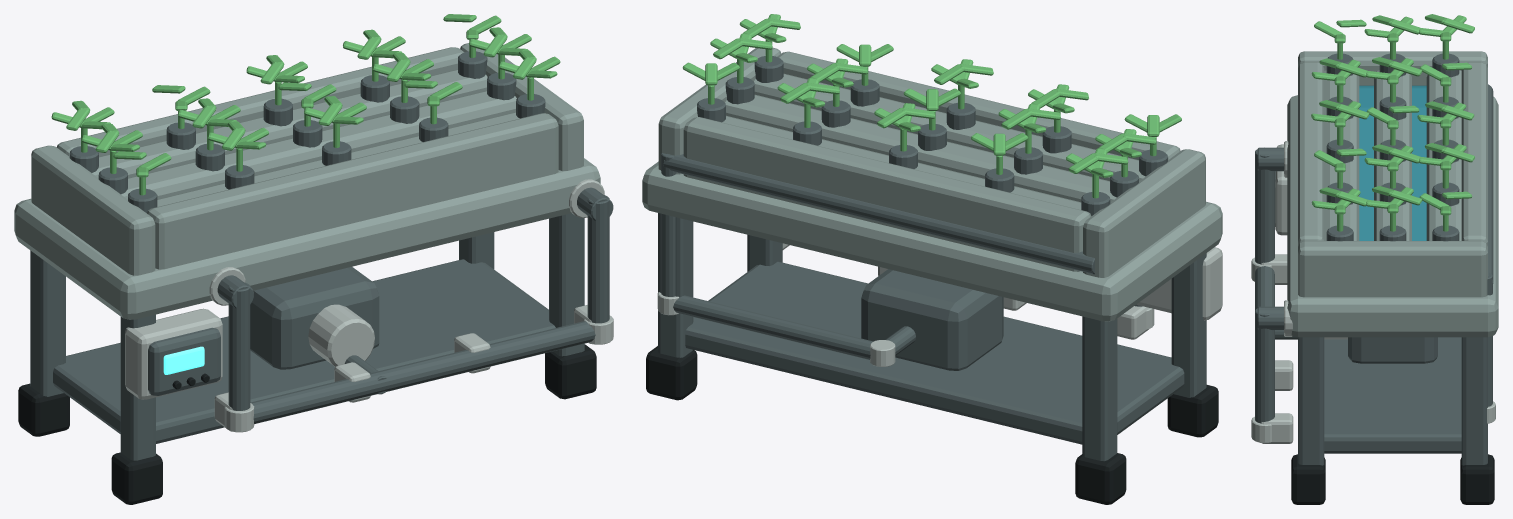
The model's file is 05_medium_culture_table.glb.
3 renders of one model, left to right at view 1: azimuth 30°, elevation 25°; view 2: azimuth 150°, elevation 25°; view 3: azimuth 270°, elevation 25°, orthographic. The views are drawn at different scales.
Parts seen in each view (by area): view 1: 05_medium_culture_table_Basin_Wall_Front, 05_medium_culture_table_Top_Frame, 05_medium_culture_table_Lower_Frame, 05_medium_culture_table_Basin_Wall_Left, 05_medium_culture_table_NFT_Channel_2, 05_medium_culture_table_Central_Motor_Housing, 05_medium_culture_table_Front_Circulation_Loop_Segment_2, 05_medium_culture_table_NFT_Channel_3, 05_medium_culture_table_Basin_Wall_Rear, 05_medium_culture_table_Leg_-1_1, 05_medium_culture_table_Leg_1_-1, 05_medium_culture_table_Control_Mounting_Plate (+21 smaller); view 2: 05_medium_culture_table_Lower_Frame, 05_medium_culture_table_Top_Frame, 05_medium_culture_table_Basin_Wall_Rear, 05_medium_culture_table_Central_Motor_Housing, 05_medium_culture_table_Basin_Wall_Left, 05_medium_culture_table_NFT_Channel_2, 05_medium_culture_table_Rear_Manifold, 05_medium_culture_table_Leg_-1_1, 05_medium_culture_table_NFT_Channel_1, 05_medium_culture_table_Basin_Wall_Front, 05_medium_culture_table_Leg_-1_-1, 05_medium_culture_table_Rear_Return_To_Motor_Segment_2 (+19 smaller); view 3: 05_medium_culture_table_Lower_Frame, 05_medium_culture_table_Top_Frame, 05_medium_culture_table_Basin_Wall_Right, 05_medium_culture_table_Basin_Wall_Rear, 05_medium_culture_table_Basin_Wall_Front, 05_medium_culture_table_Water_Surface, 05_medium_culture_table_Leg_1_-1, 05_medium_culture_table_Leg_1_1, 05_medium_culture_table_NFT_Channel_2, 05_medium_culture_table_NFT_Channel_3, 05_medium_culture_table_NFT_Channel_1, 05_medium_culture_table_Central_Motor_Housing (+22 smaller).
Part boxes in pixels (x1,y1,x2,y2): 05_medium_culture_table_Basin_Wall_Front: [147, 113, 558, 269]; 05_medium_culture_table_Top_Frame: [14, 158, 600, 319]; 05_medium_culture_table_Lower_Frame: [53, 259, 555, 443]; 05_medium_culture_table_Basin_Wall_Left: [31, 145, 155, 275]; 05_medium_culture_table_NFT_Channel_2: [121, 90, 516, 199]; 05_medium_culture_table_Central_Motor_Housing: [250, 267, 379, 369]; 05_medium_culture_table_Front_Circulation_Loop_Segment_2: [250, 321, 595, 423]; 05_medium_culture_table_NFT_Channel_3: [92, 69, 487, 177]; 05_medium_culture_table_Basin_Wall_Rear: [56, 47, 464, 156]; 05_medium_culture_table_Leg_-1_1: [30, 250, 65, 396]; 05_medium_culture_table_Leg_1_-1: [549, 213, 584, 356]; 05_medium_culture_table_Control_Mounting_Plate: [125, 308, 222, 399]; 05_medium_culture_table_Lower_Frame: [685, 261, 1184, 444]; 05_medium_culture_table_Top_Frame: [642, 161, 1222, 321]; 05_medium_culture_table_Basin_Wall_Rear: [683, 117, 1091, 271]; 05_medium_culture_table_Central_Motor_Housing: [861, 269, 1003, 370]; 05_medium_culture_table_Basin_Wall_Left: [1083, 149, 1205, 277]; 05_medium_culture_table_NFT_Channel_2: [725, 94, 1116, 202]; 05_medium_culture_table_Rear_Manifold: [663, 153, 1094, 274]; 05_medium_culture_table_Leg_-1_1: [1082, 316, 1117, 461]; 05_medium_culture_table_NFT_Channel_1: [754, 73, 1145, 181]; 05_medium_culture_table_Basin_Wall_Front: [777, 51, 1180, 159]; 05_medium_culture_table_Leg_-1_-1: [1171, 253, 1206, 397]; 05_medium_culture_table_Rear_Return_To_Motor_Segment_2: [673, 295, 873, 359]; 05_medium_culture_table_Lower_Frame: [1324, 337, 1461, 453]; 05_medium_culture_table_Top_Frame: [1287, 95, 1498, 337]; 05_medium_culture_table_Basin_Wall_Right: [1298, 241, 1487, 297]; 05_medium_culture_table_Basin_Wall_Rear: [1461, 62, 1487, 246]; 05_medium_culture_table_Basin_Wall_Front: [1298, 62, 1324, 246]; 05_medium_culture_table_Water_Surface: [1359, 85, 1426, 240]; 05_medium_culture_table_Leg_1_-1: [1298, 337, 1324, 465]; 05_medium_culture_table_Leg_1_1: [1461, 337, 1487, 465]; 05_medium_culture_table_NFT_Channel_2: [1374, 70, 1411, 240]; 05_medium_culture_table_NFT_Channel_3: [1426, 70, 1461, 240]; 05_medium_culture_table_NFT_Channel_1: [1324, 70, 1359, 240]; 05_medium_culture_table_Central_Motor_Housing: [1348, 337, 1437, 363].
Size of the model in its own units: 1.9 by 1.24 by 0.9363.
